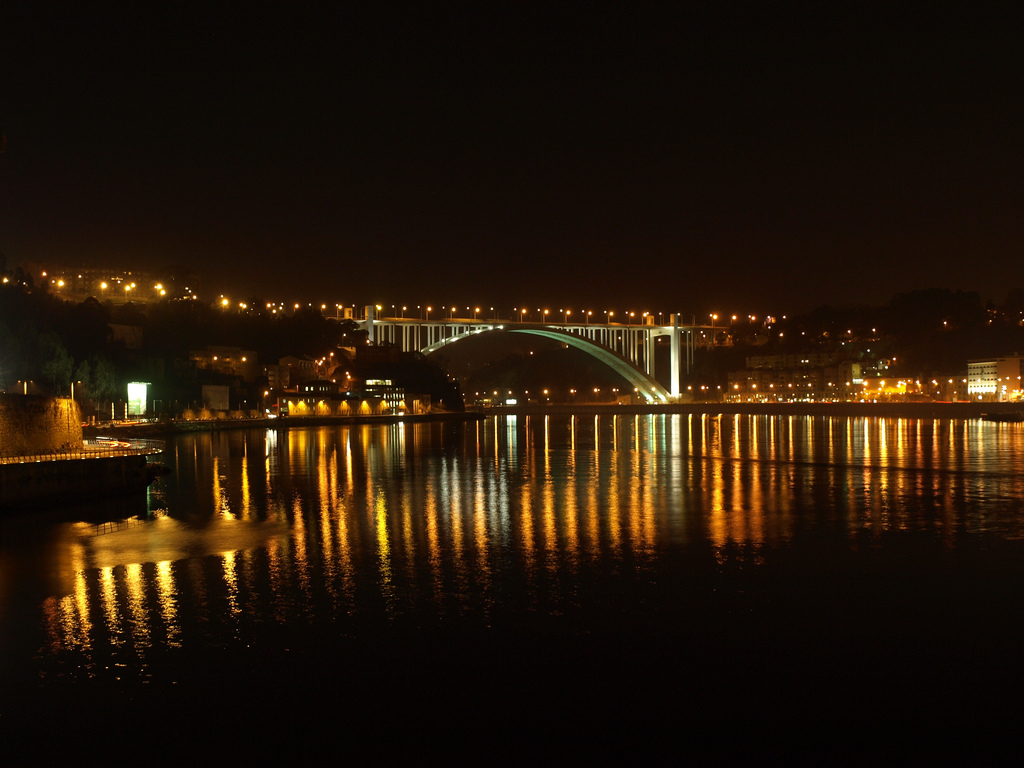arrabida: (324, 304, 727, 406)
